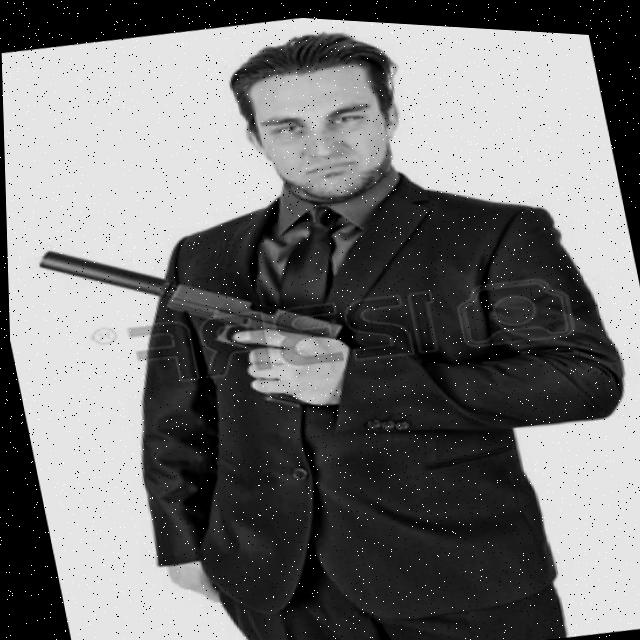pistol: (32, 200, 345, 387)
